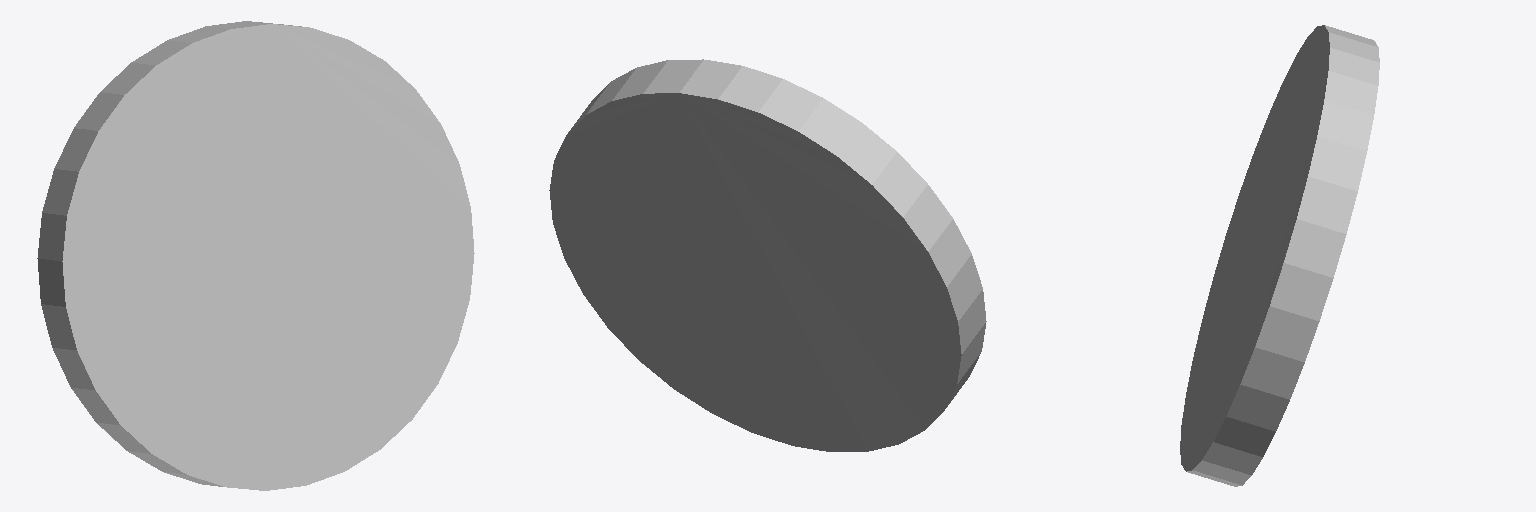
Rendered from gearBtn.obj.
3 renders of one model, left to right at view 1: azimuth 30°, elevation 25°; view 2: azimuth 150°, elevation 25°; view 3: azimuth 270°, elevation 25°, orthographic.
Visible parts, largest first — view 1: Cube.017_Cube.018; view 2: Cube.017_Cube.018; view 3: Cube.017_Cube.018.
Boxes of the visible parts, x1=… form: Cube.017_Cube.018: x1=37, y1=21, x2=474, y2=490; Cube.017_Cube.018: x1=549, y1=59, x2=986, y2=451; Cube.017_Cube.018: x1=1180, y1=25, x2=1379, y2=486.
Size of the model in its own units: 0.006 by 0.0059 by 0.0026.